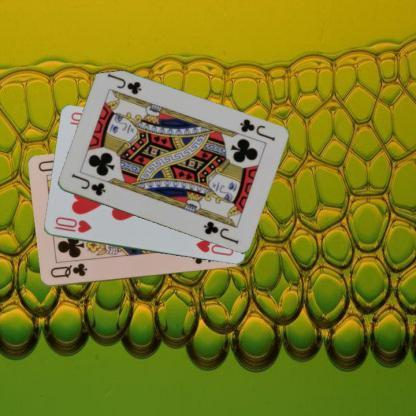10h: (52, 214, 92, 235)
Jc: (68, 170, 107, 198), (236, 116, 276, 142)
Qc: (48, 262, 88, 280)
